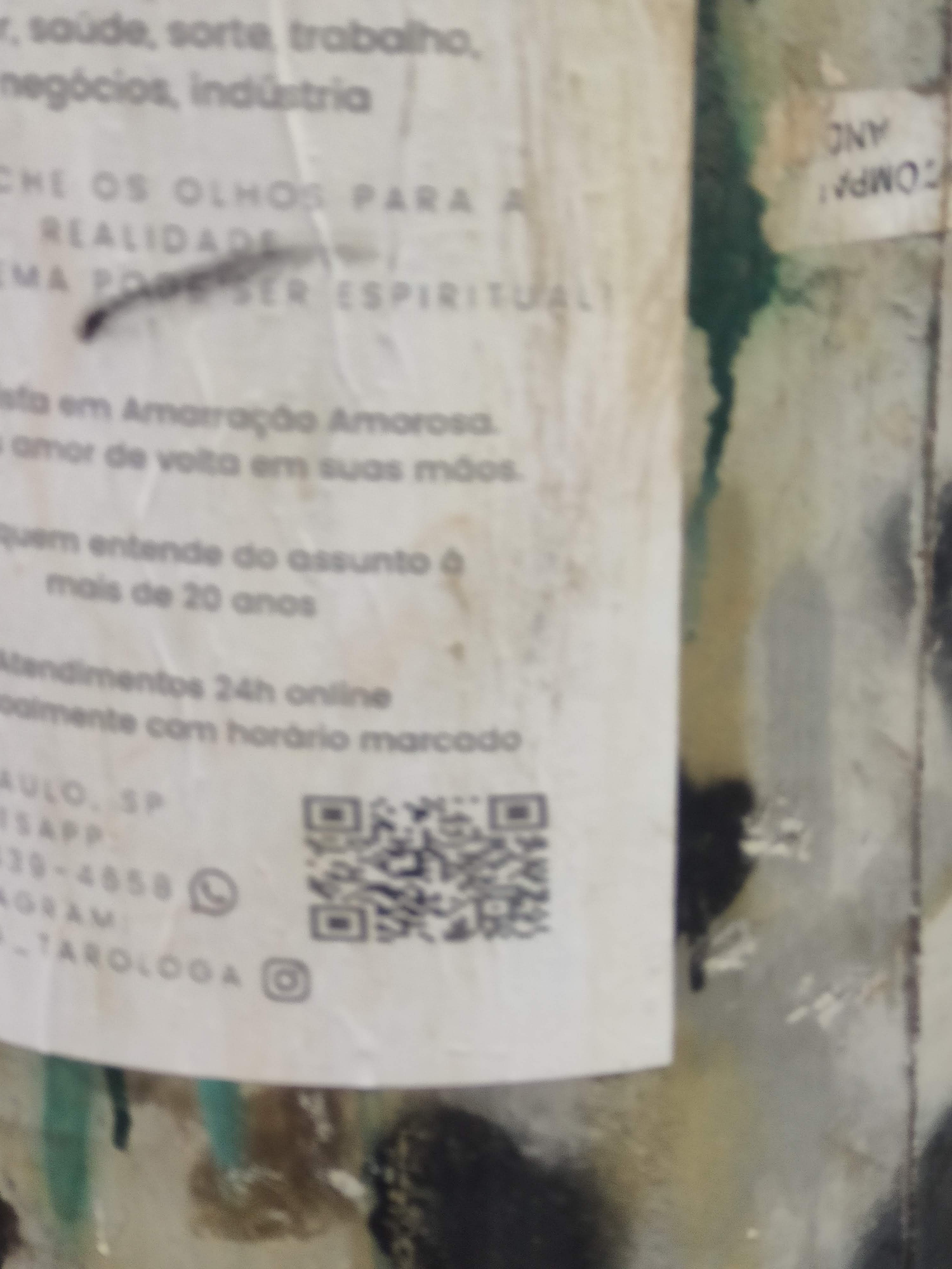QR-CODE: (305, 794, 547, 944)
